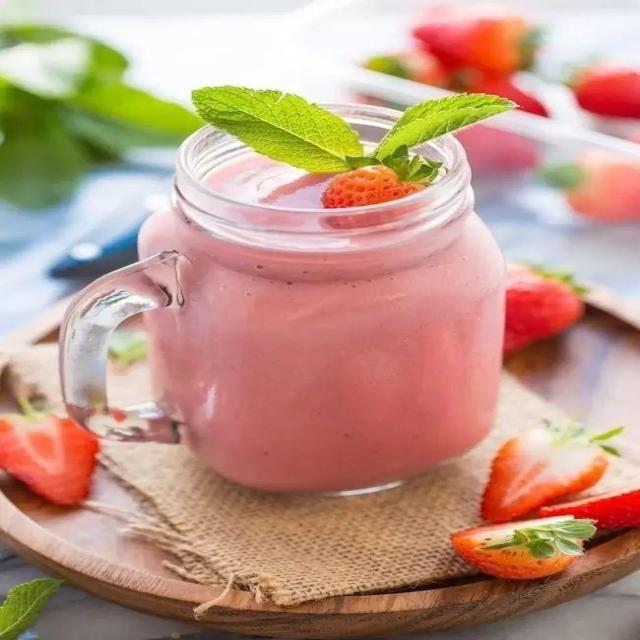glass-mug: (52, 102, 511, 503)
